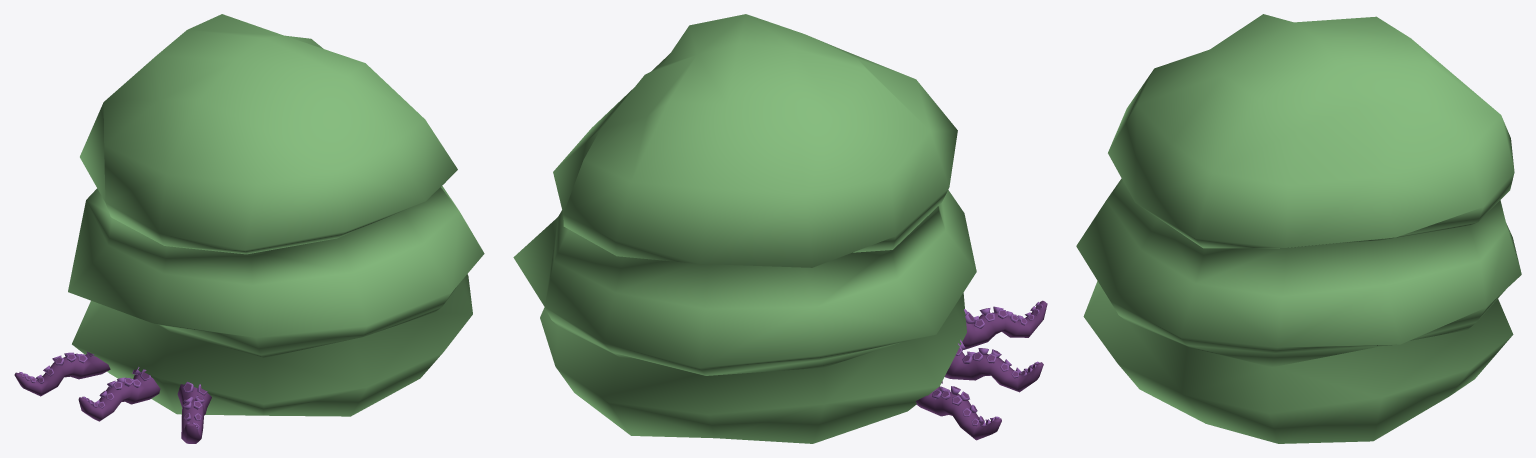
Rendered from Tree-Octopus-no1.gltf.
3 renders of one model, left to right at view 1: azimuth 30°, elevation 25°; view 2: azimuth 150°, elevation 25°; view 3: azimuth 270°, elevation 25°, orthographic. The views are drawn at different scales.
Visible parts, largest first — view 1: Tree-Octopus-no1; view 2: Tree-Octopus-no1; view 3: Tree-Octopus-no1.
Boxes of the visible parts, left/top/right/bottom form: Tree-Octopus-no1: left=14, top=14, right=484, bottom=443; Tree-Octopus-no1: left=513, top=14, right=1047, bottom=443; Tree-Octopus-no1: left=1076, top=14, right=1521, bottom=443.
Bounding box in the file's own units: 1.55 × 1.11 × 1.33.
Materials: 1 (1 with a texture image).
